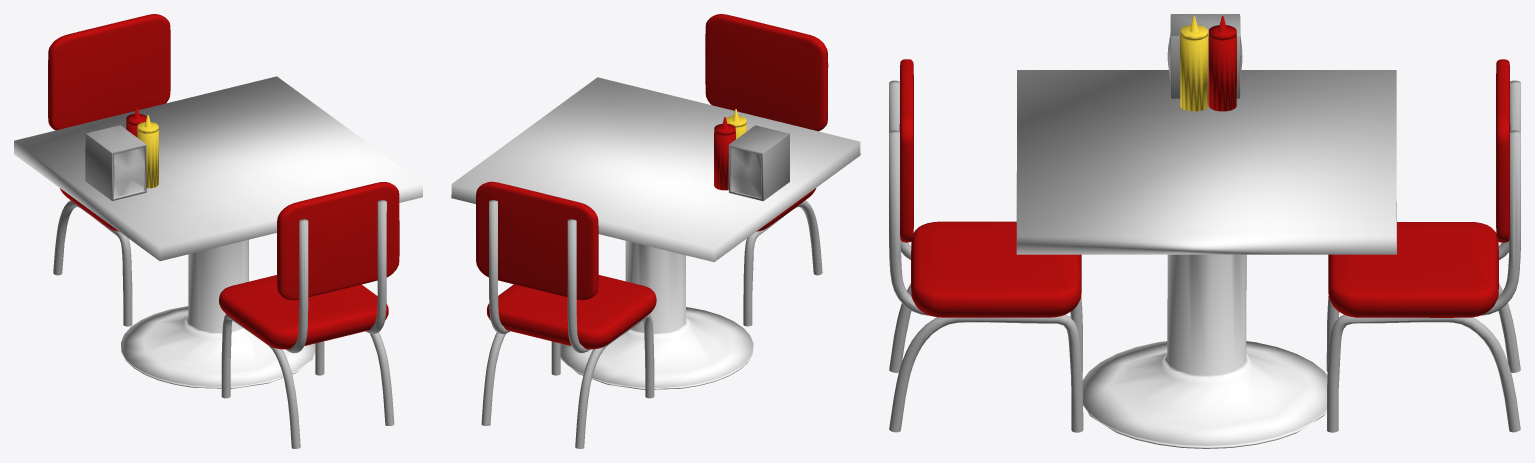
File: diner_table_chair_set.glb
3 views of the same model, side by side, from view 1: azimuth 30°, elevation 25°; view 2: azimuth 150°, elevation 25°; view 3: azimuth 270°, elevation 25° (orthographic). The views are drawn at different scales.
Visible parts, largest first — view 1: Cylinder.005_table_0, Cube.005_stoolik_0, Cube.022_salfetka_0; view 2: Cylinder.005_table_0, Cube.005_stoolik_0, Cube.022_salfetka_0; view 3: Cylinder.005_table_0, Cube.005_stoolik_0, Cube.022_salfetka_0.
Boxes of the visible parts, x1,y1,x2,y2 form: Cylinder.005_table_0: (14,76,422,388); Cube.005_stoolik_0: (48,14,399,448); Cube.022_salfetka_0: (85,107,158,200); Cylinder.005_table_0: (451,77,860,389); Cube.005_stoolik_0: (476,14,828,448); Cube.022_salfetka_0: (714,109,789,201); Cylinder.005_table_0: (1016,70,1396,448); Cube.005_stoolik_0: (889,59,1520,432); Cube.022_salfetka_0: (1167,14,1242,111).
Bounding box in the file's own units: 0.8863 × 0.8271 × 1.42.
3 materials, 3 textured.
